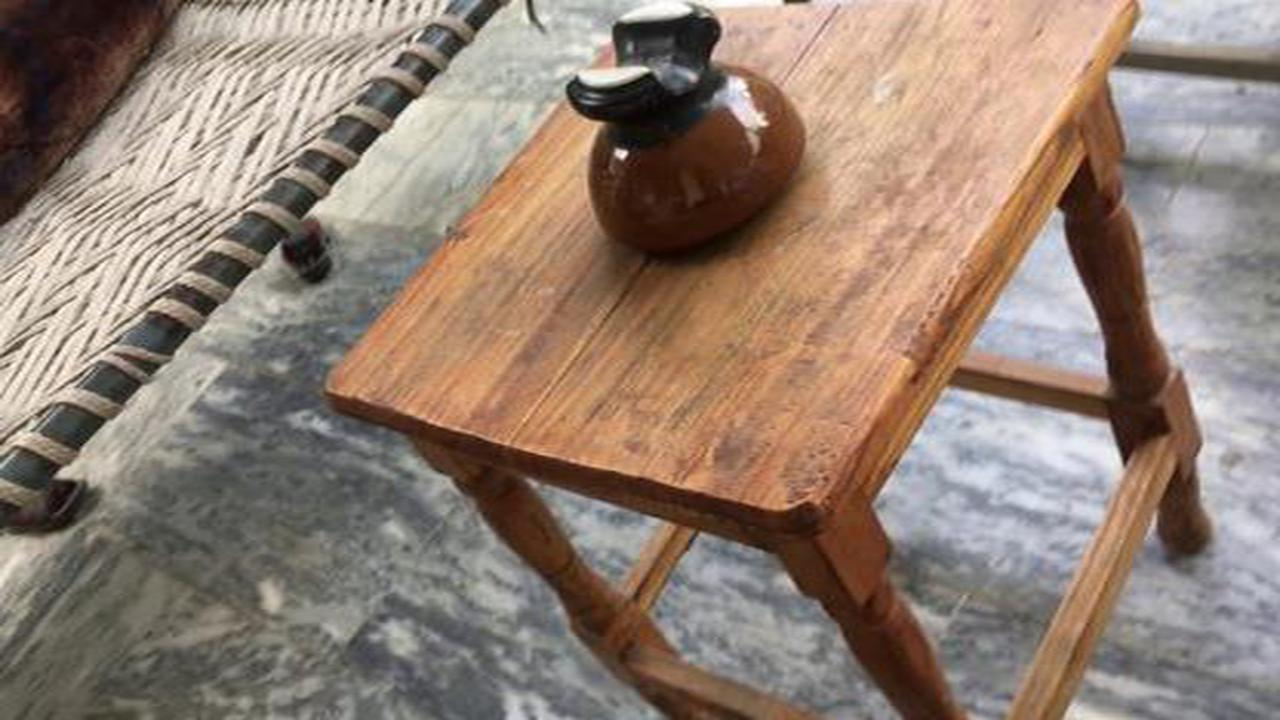insulator_pin: (542, 2, 819, 277)
